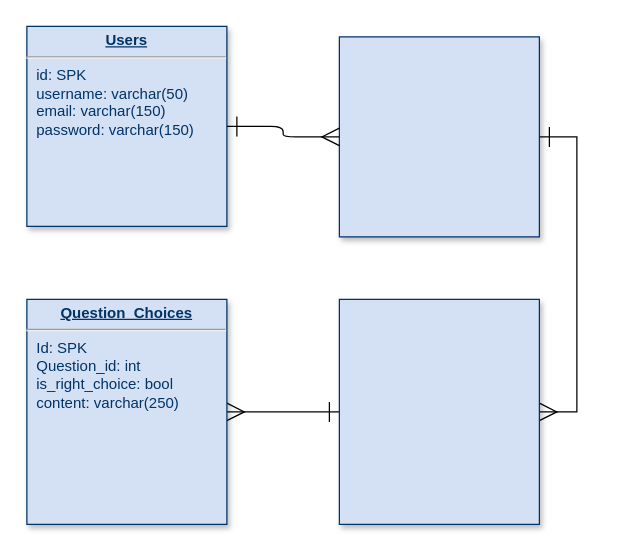
Image size: 620x556. Some labels were removed from this diagram. The shapes that lost their labels are listed below. From the top down, each one's centre as x and y in pixels, then its label:
At [440,138]: "Quizs Id: SPK name: varchar(250)".
At [440,413]: "Questions Id: SPK Question: varchar(250)".
